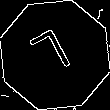L_SE: (29, 25, 81, 85)
